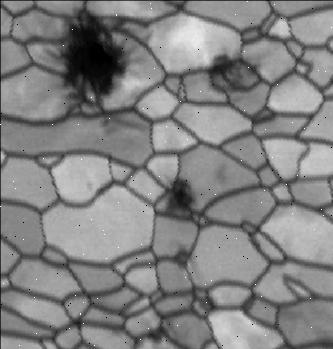good_void: (34, 2, 137, 127), (192, 45, 257, 96), (156, 175, 201, 210), (167, 239, 201, 273), (78, 176, 96, 193)
